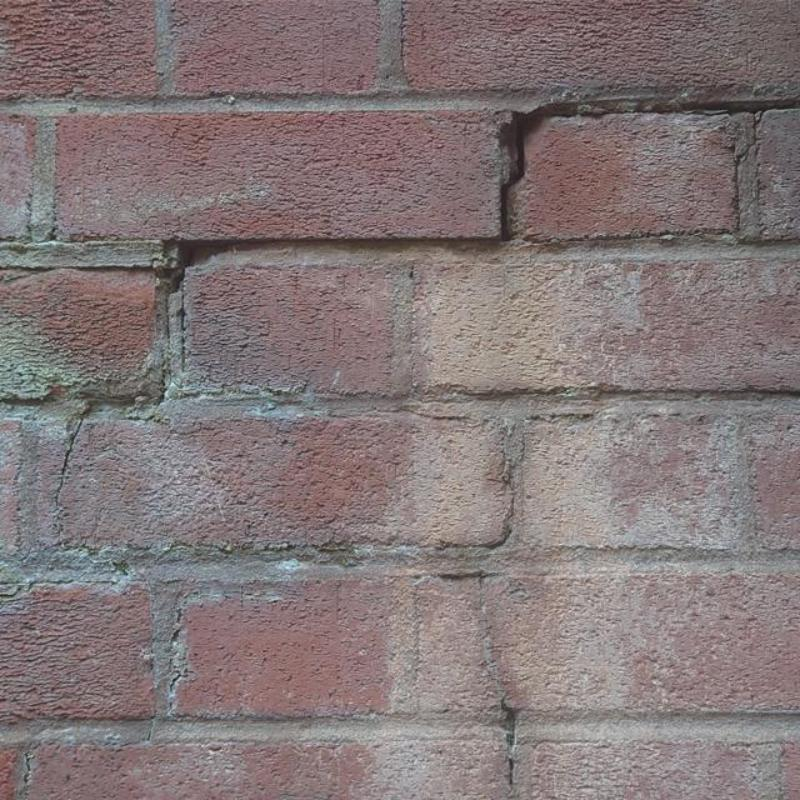crack: (498, 104, 576, 241), (679, 102, 799, 112)
